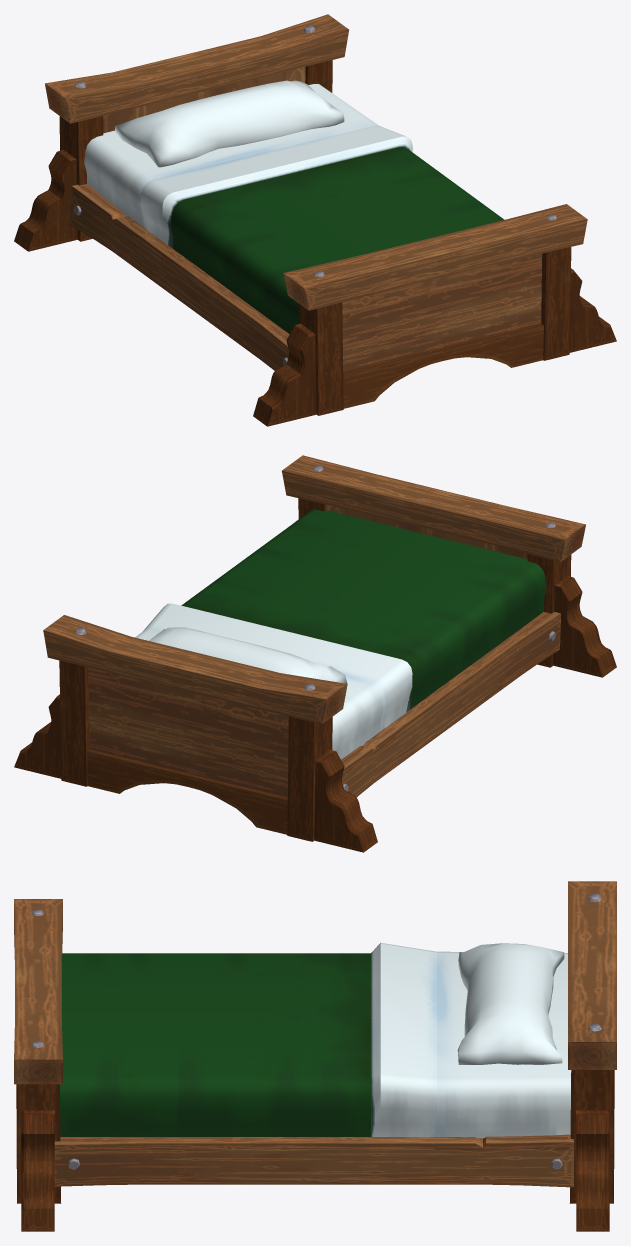
File: Bed_Twin2.gltf
3 views of the same model, one above another, from view 1: azimuth 30°, elevation 25°; view 2: azimuth 150°, elevation 25°; view 3: azimuth 270°, elevation 25° (orthographic). The views are drawn at different scales.
Parts seen in each view (by area): view 1: Bed_Twin2; view 2: Bed_Twin2; view 3: Bed_Twin2.
Part boxes in pixels (<box>): Bed_Twin2: <box>14,14,616,426</box>; Bed_Twin2: <box>14,455,616,852</box>; Bed_Twin2: <box>14,881,616,1231</box>.
Size of the model in its own units: 1.88 by 0.7596 by 2.41.
Materials: 3 (3 with a texture image).
